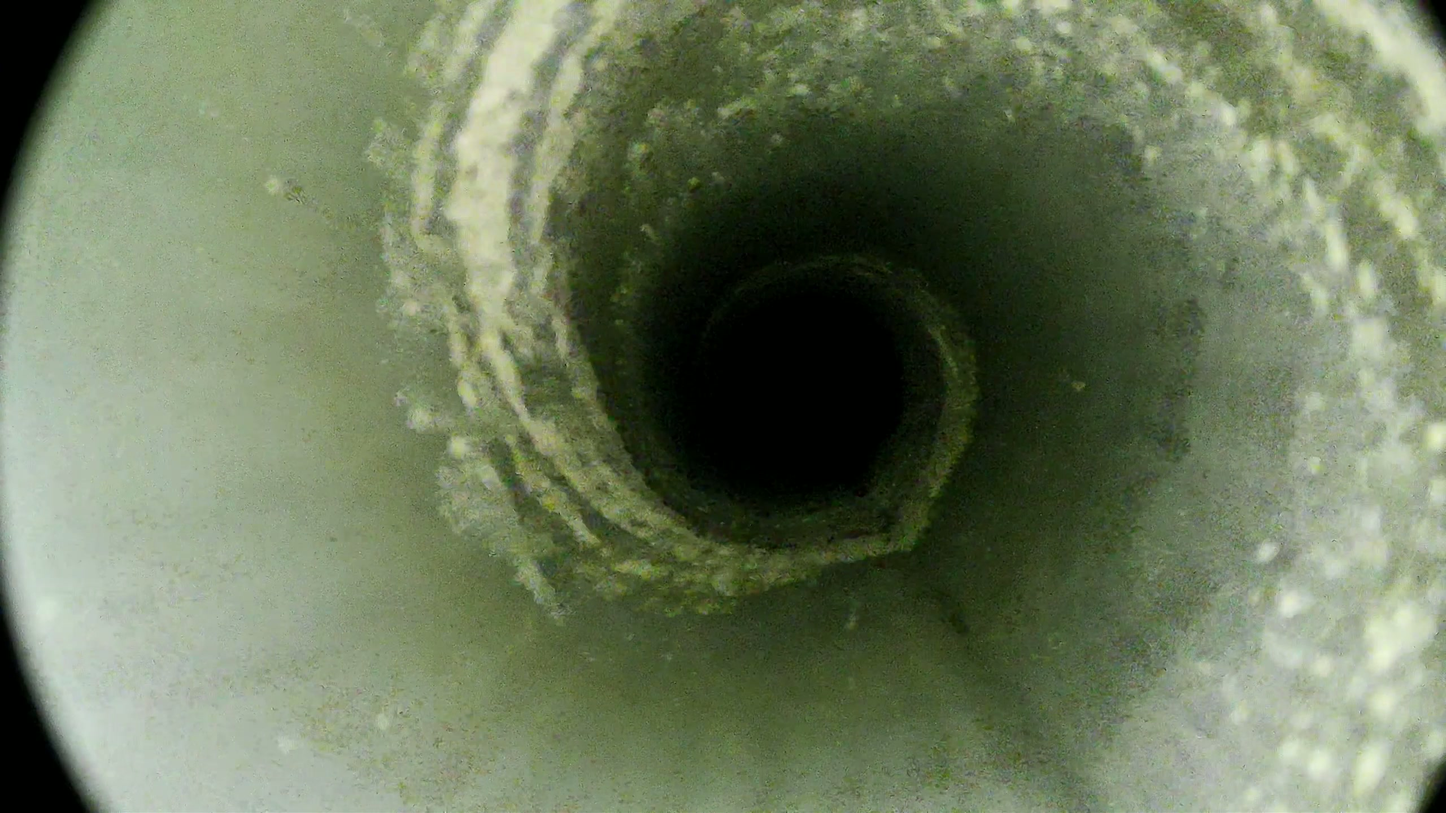hole: (715, 297, 904, 482)
